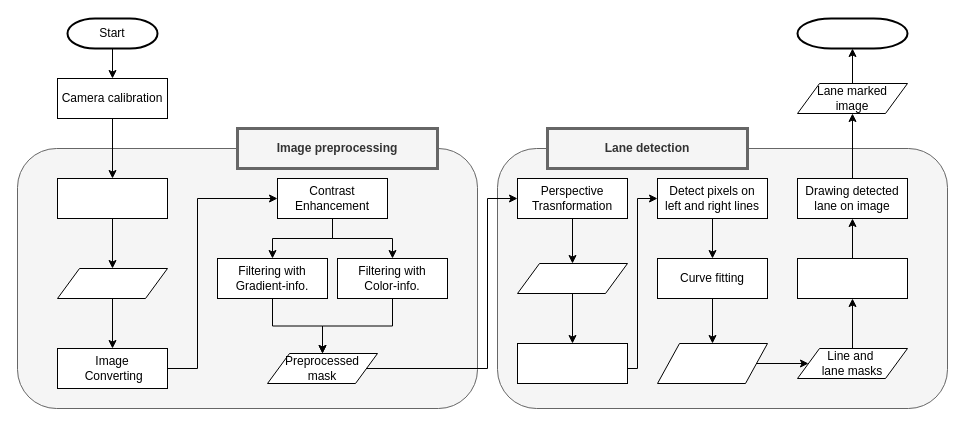
The diagram is 965 pixels wide and 426 high, and some of its shapes have lost their labels. Here are the shapes that lost their labels. From the top down, the centre of each, then its label:
At point 852,33: "Show image".
At point 112,198: "Read Image".
At point 112,283: "BGR-Image".
At point 572,278: "Bird-view mask".
At point 852,278: "Inv. Perspective Trasnformation".
At point 572,363: "Sliding-Window Method".
At point 712,363: "Points on left and right lines".
